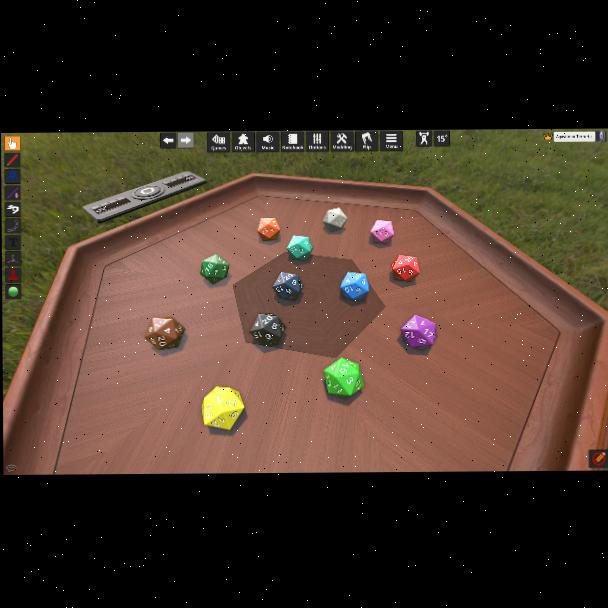d20: (203, 386, 245, 431), (324, 358, 362, 397), (146, 317, 187, 351), (249, 313, 286, 347), (401, 315, 436, 349), (200, 254, 228, 285), (274, 272, 305, 300), (390, 254, 418, 282), (341, 273, 368, 301), (286, 235, 311, 260), (322, 208, 345, 233), (258, 217, 280, 241), (371, 220, 393, 244)
